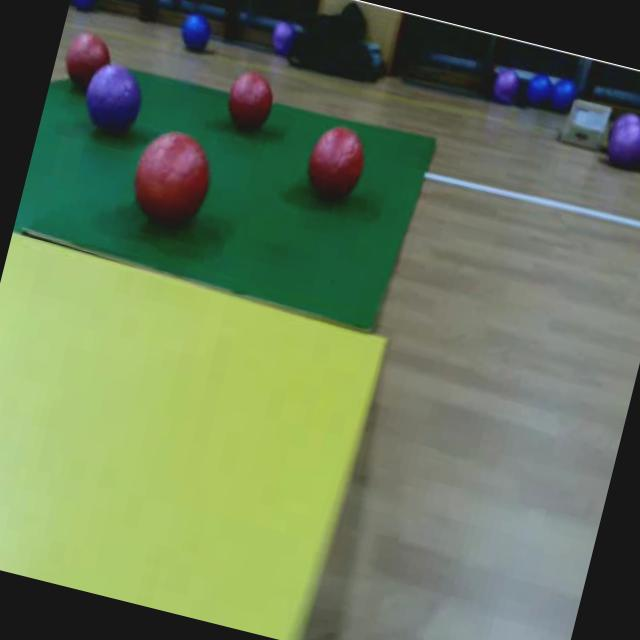blue_ball: (176, 11, 212, 54), (520, 71, 554, 112), (548, 77, 580, 114), (70, 0, 98, 15)
purple_ball: (77, 56, 151, 142), (604, 111, 640, 161), (487, 64, 518, 103), (268, 18, 295, 52)
red_ball: (126, 125, 221, 232), (304, 122, 372, 202), (222, 69, 280, 137), (61, 28, 118, 92)
